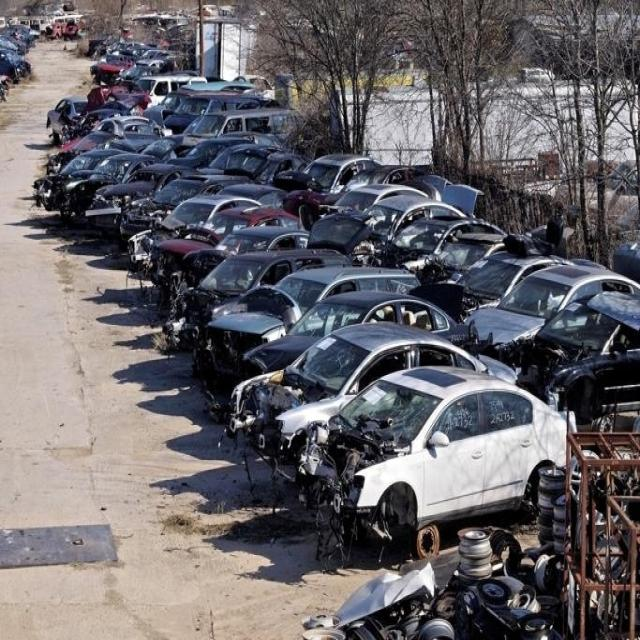Metal: (53, 0, 640, 635)
